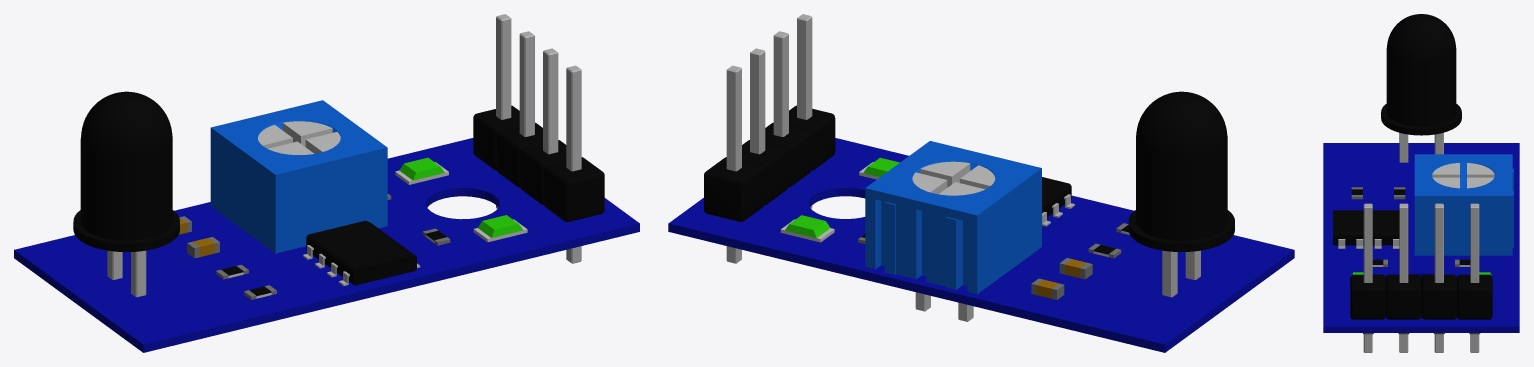
The model's file is flame-sensor-recolor.fbx.
3 renders of one model, left to right at view 1: azimuth 30°, elevation 25°; view 2: azimuth 150°, elevation 25°; view 3: azimuth 270°, elevation 25°, orthographic. The views are drawn at different scales.
Parts seen in each view (by area): view 1: PCB Board, Trimpot Base, LED Body, Plastic Wrapper, Pin, LED Head, IC Base, Wiper, LED Tail, Cube.001, LED SMD, LED SMD.001; view 2: PCB Board, Trimpot Base, Plastic Wrapper, LED Body, Pin, LED Head, Wiper, LED Tail, Cube.001, IC Base, LED SMD, Pin.002; view 3: PCB Board, Trimpot Base, Plastic Wrapper, LED Body, Pin, LED Head, IC Base, Wiper, LED Tail, Cube.001, IC Pin.
Boxes of the visible parts, x1,y1,x2,y2 form: PCB Board: (14,138,639,352); Trimpot Base: (210,100,387,253); LED Body: (80,135,172,240); Plastic Wrapper: (473,105,604,222); Pin: (496,14,581,263); LED Head: (81,91,172,156); IC Base: (306,220,416,285); Wiper: (258,121,340,154); LED Tail: (73,210,179,251); Cube.001: (107,250,146,297); LED SMD: (399,157,444,180); LED SMD.001: (478,215,522,237); PCB Board: (668,138,1294,352); Trimpot Base: (865,141,1041,294); Plastic Wrapper: (704,105,835,221); LED Body: (1136,135,1227,240); Pin: (726,14,812,263); LED Head: (1136,91,1227,156); Wiper: (912,161,995,195); LED Tail: (1128,210,1234,251); Cube.001: (1162,250,1200,297); IC Base: (1042,177,1071,216); LED SMD: (785,215,830,238); Pin.002: (915,292,973,321); PCB Board: (1323,143,1519,332); Trimpot Base: (1414,154,1513,255); Plastic Wrapper: (1350,274,1492,319); LED Body: (1386,48,1456,126); Pin: (1363,203,1479,352); LED Head: (1387,14,1455,63); IC Base: (1333,210,1399,245); Wiper: (1432,163,1494,188); LED Tail: (1381,104,1461,135); Cube.001: (1399,132,1443,162); IC Pin: (1338,239,1399,248).
Size of the model in its own units: 6200 by 2865 by 2800.
